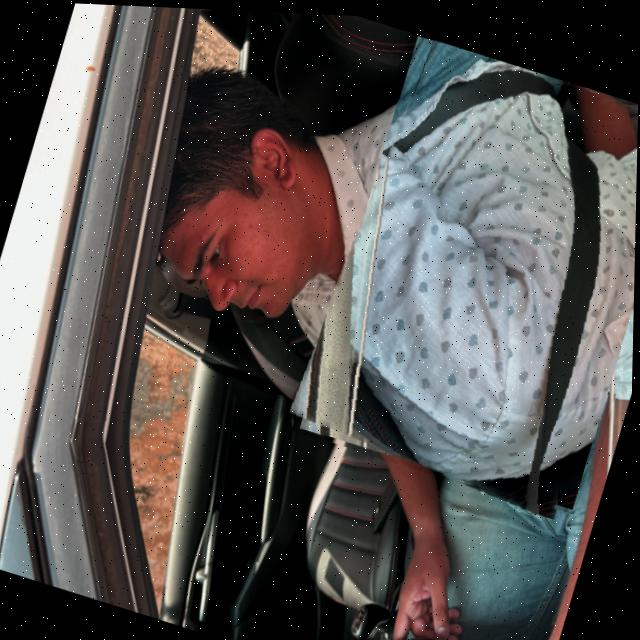seatbelt: (291, 22, 640, 516)
